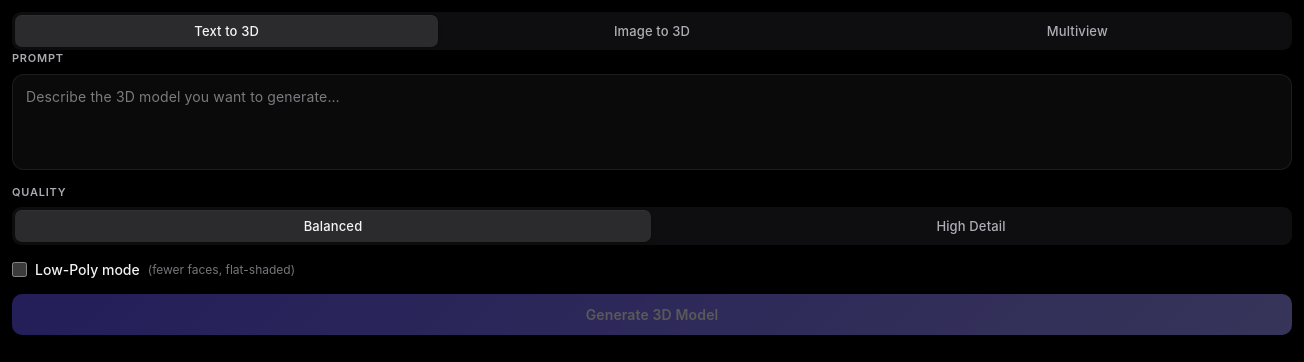
Test: GeneratorForm › submit button enables when prompt is typed
Type "a red dragon" into the text box with placeholder "Describe the 3D model you want to generate…" at coordinates (652, 122), box top-left (12, 74), bottom-right (1292, 170)
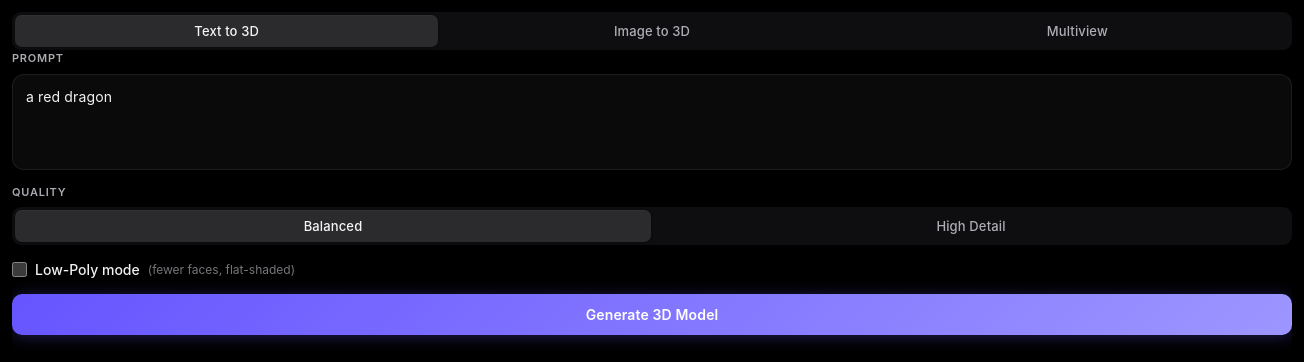
expect the button "Generate 3D Model" is enabled: met, box top-left (12, 294), bottom-right (1292, 335)
